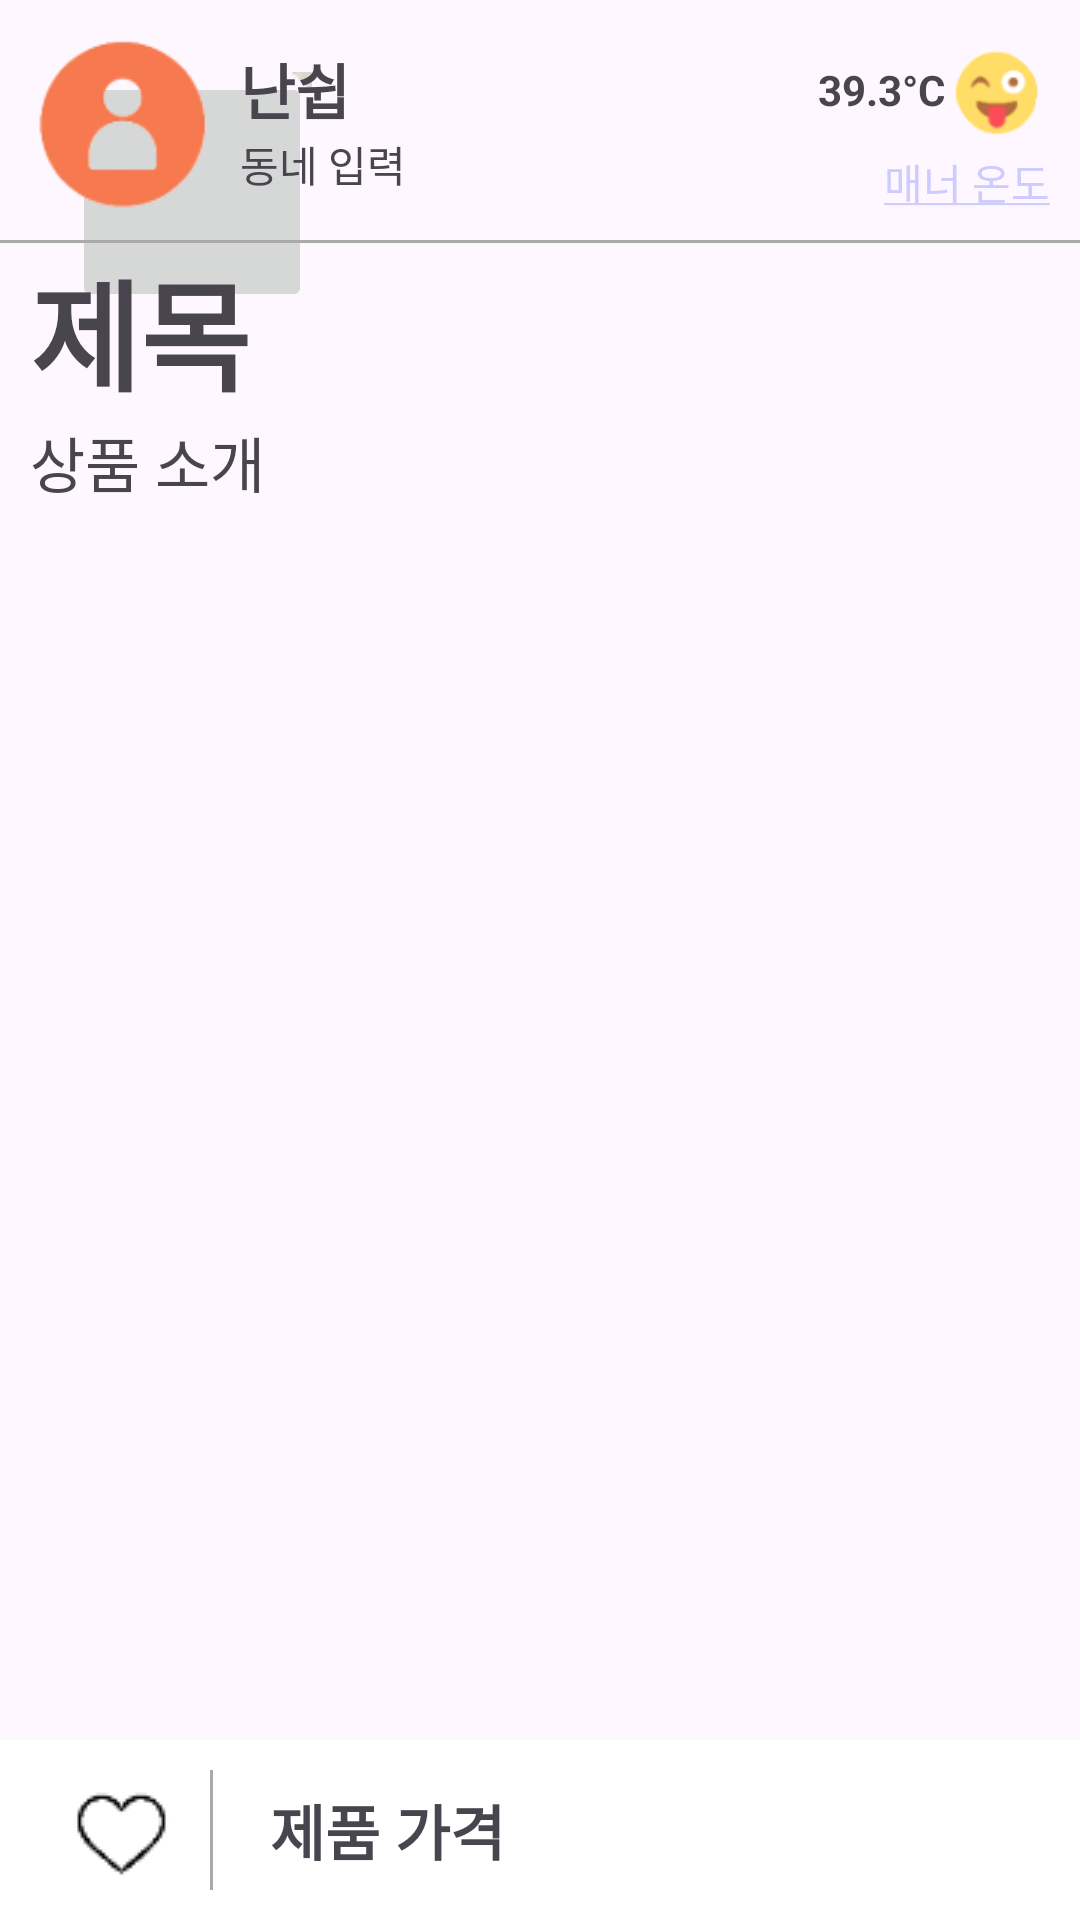

Screen size 1080 × 1920. Icon name, then its center in pixels as point (x, y):
detail person: point (120, 120)
detail smile: point (996, 93)
좋아요 버튼: point (121, 1834)
